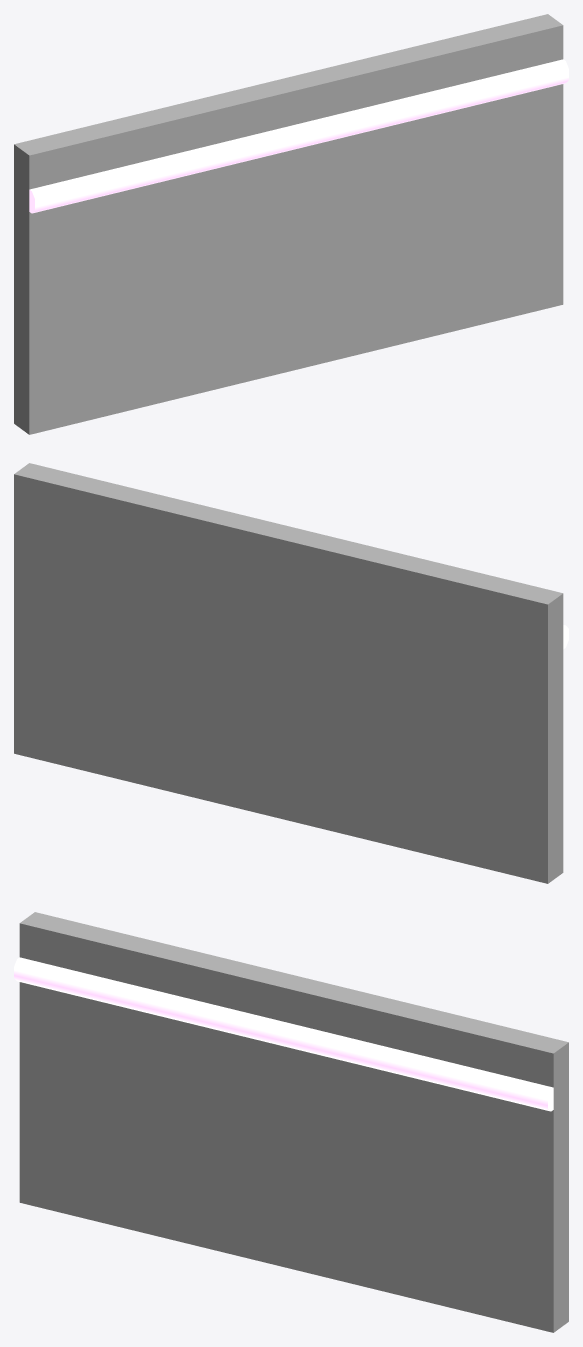
Rendered from walltest.fbx.
The picture shows the model from 3 angles, top to bottom: view 1: azimuth 30°, elevation 25°; view 2: azimuth 150°, elevation 25°; view 3: azimuth 330°, elevation 25°; orthographic projection.
Visible parts, largest first — view 1: wall; view 2: wall; view 3: wall.
Part boxes in pixels (box(x1,y1,x2,y2)): wall: box(14, 14, 568, 434); wall: box(14, 463, 568, 883); wall: box(14, 912, 568, 1332).
Size of the model in its own units: 20 by 10 by 1.36.
